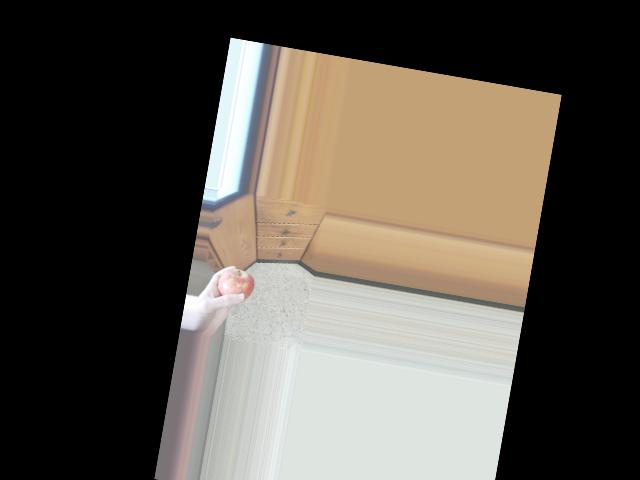apple: (209, 263, 257, 310)
